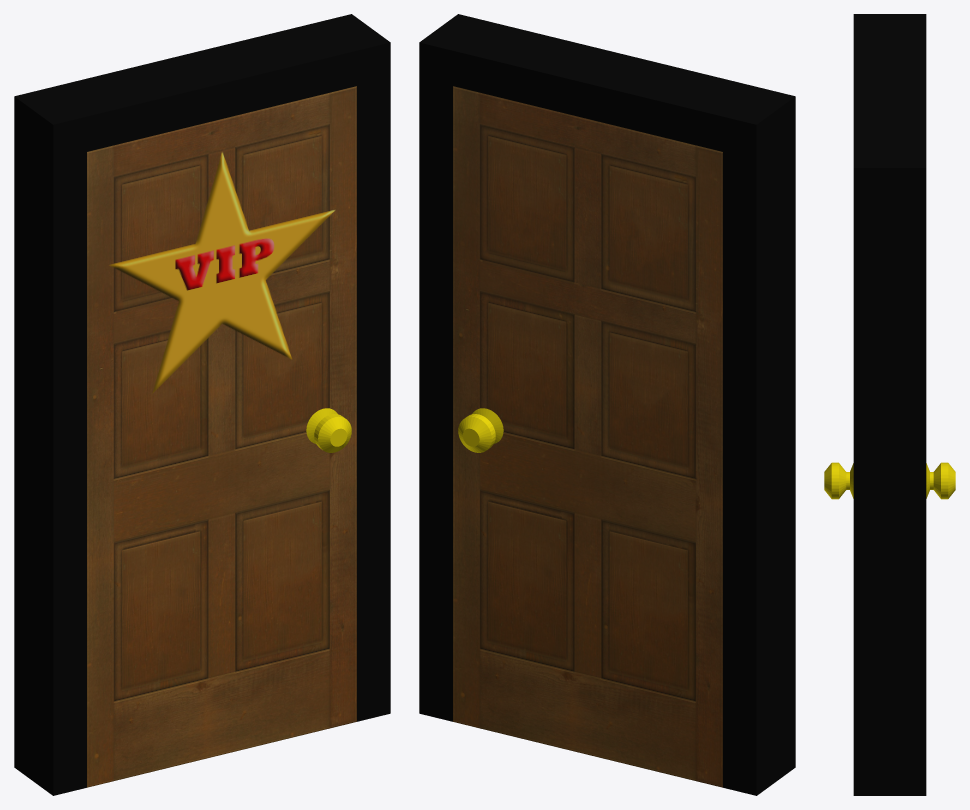
Rendered from Door (VIP 2.0).fbx.
3 renders of one model, left to right at view 1: azimuth 30°, elevation 25°; view 2: azimuth 150°, elevation 25°; view 3: azimuth 270°, elevation 25°, orthographic. The views are drawn at different scales.
Visible parts, largest first — view 1: Door, Frame, Knob (Left); view 2: Door, Frame, Knob (Right); view 3: Frame, Knob (Left), Knob (Right).
Boxes of the visible parts, bbox=[...] form: Door: bbox=[87, 86, 356, 787]; Frame: bbox=[14, 14, 390, 795]; Knob (Left): bbox=[306, 408, 351, 452]; Door: bbox=[453, 86, 722, 787]; Frame: bbox=[419, 14, 795, 795]; Knob (Right): bbox=[458, 408, 503, 452]; Frame: bbox=[853, 14, 926, 795]; Knob (Left): bbox=[824, 462, 853, 499]; Knob (Right): bbox=[926, 462, 955, 499].
Size of the model in its own units: 500 by 950 by 180.
